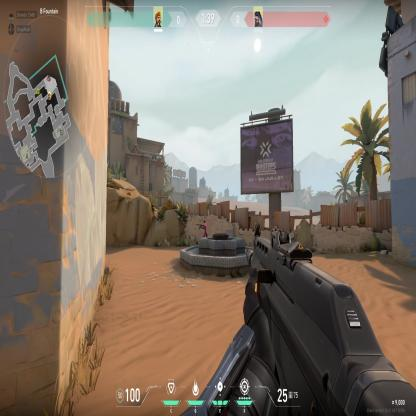enemy: (202, 219, 208, 238)
